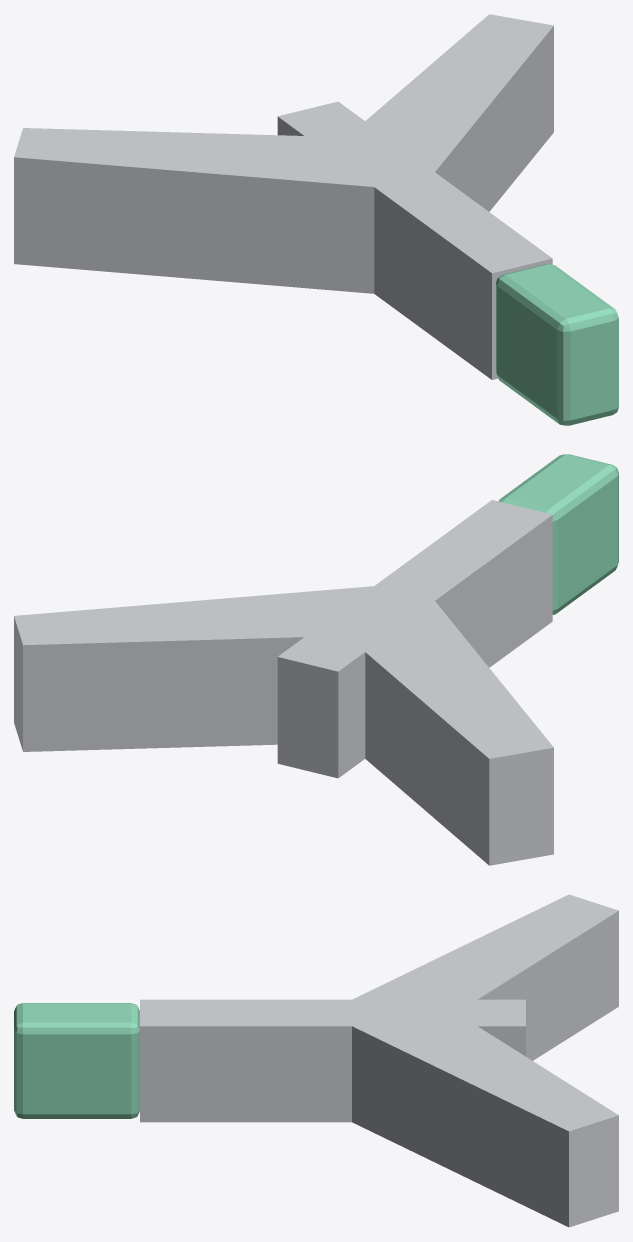
Rendered from psi.glb.
The picture shows the model from 3 angles, top to bottom: view 1: azimuth 30°, elevation 25°; view 2: azimuth 150°, elevation 25°; view 3: azimuth 270°, elevation 25°; orthographic projection. The views are drawn at different scales.
Parts seen in each view (by area): view 1: psi-mark; view 2: psi-mark; view 3: psi-mark.
Part boxes in pixels (x1,y1,x2,y2): psi-mark: (14,14,618,425); psi-mark: (14,454,618,865); psi-mark: (14,894,618,1227).
Size of the model in its own units: 0.6349 by 0.12 by 0.6848.
